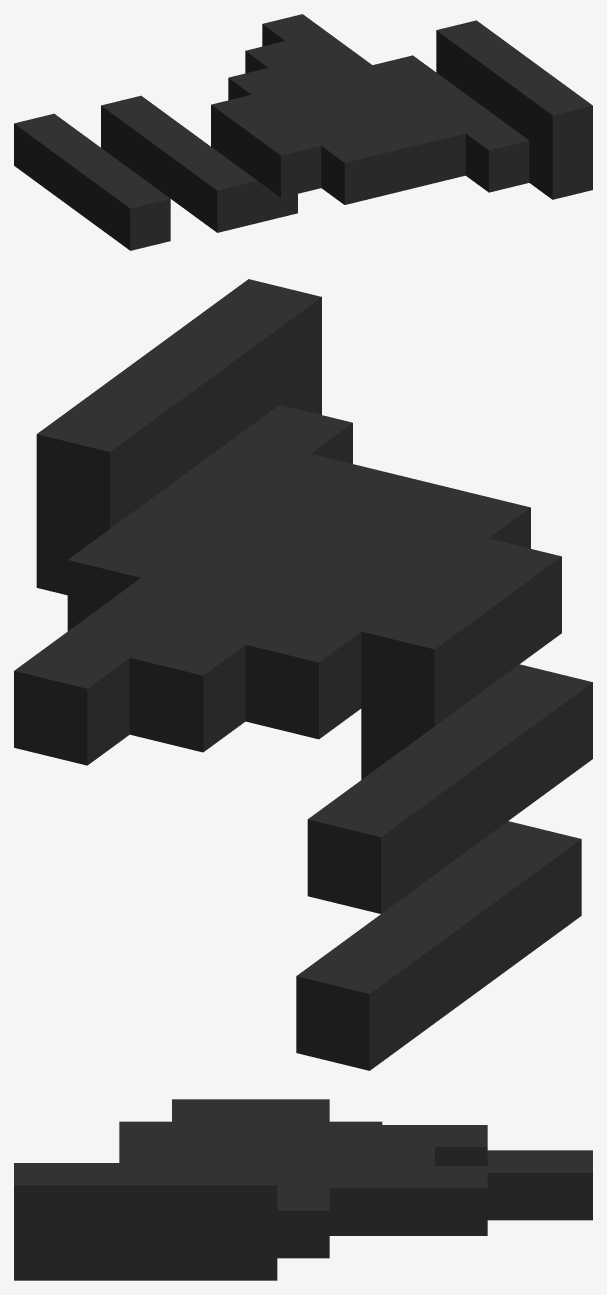
Rendered from Extra-7-RedFighter_FrontWing_R.obj.
The picture shows the model from 3 angles, top to bottom: view 1: azimuth 30°, elevation 25°; view 2: azimuth 150°, elevation 25°; view 3: azimuth 270°, elevation 25°; orthographic projection. The views are drawn at different scales.
Visible parts, largest first — view 1: RedFighter_FrontWing_R; view 2: RedFighter_FrontWing_R; view 3: RedFighter_FrontWing_R.
Boxes of the visible parts, x1,y1,x2,y2 form: RedFighter_FrontWing_R: (14, 14, 592, 250); RedFighter_FrontWing_R: (14, 279, 592, 1070); RedFighter_FrontWing_R: (14, 1099, 592, 1280).
Bounding box in the file's own units: 0.8 × 0.4 × 1.1.
1 material, 1 textured.
